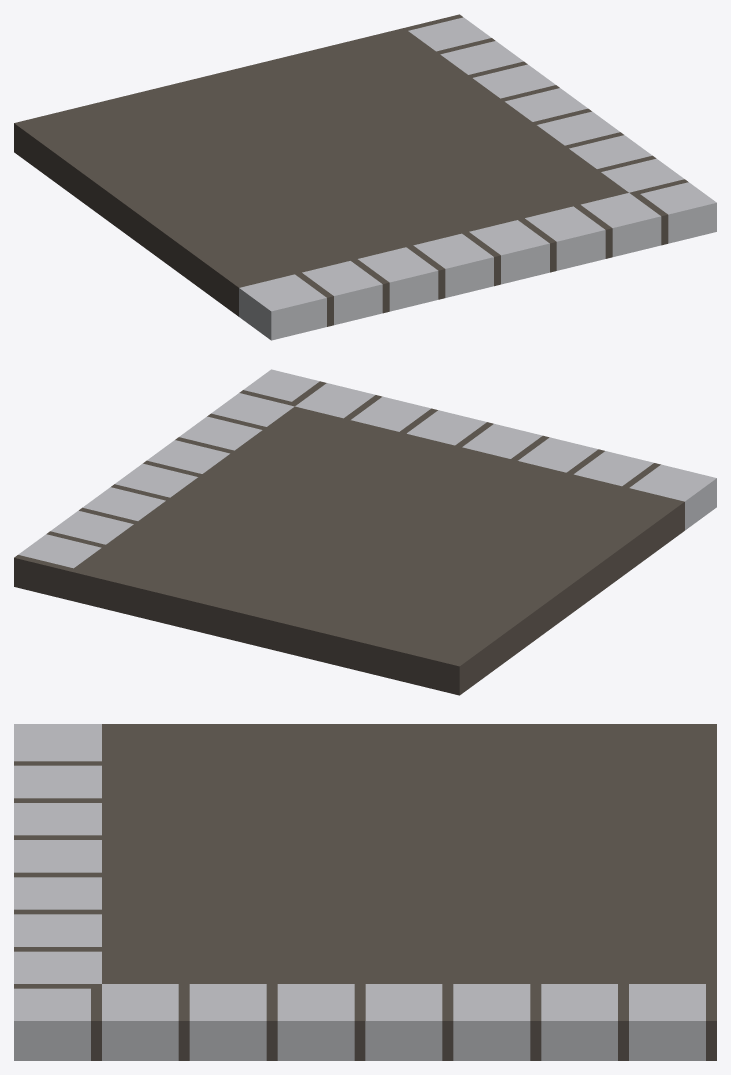
The model's file is sidewalk_b_corner_a.obj.
The picture shows the model from 3 angles, top to bottom: view 1: azimuth 30°, elevation 25°; view 2: azimuth 150°, elevation 25°; view 3: azimuth 270°, elevation 25°; orthographic projection. The views are drawn at different scales.
Bounding box in the file's own units: 6.4 × 0.4 × 6.4.
Materials: 1 (1 with a texture image).
